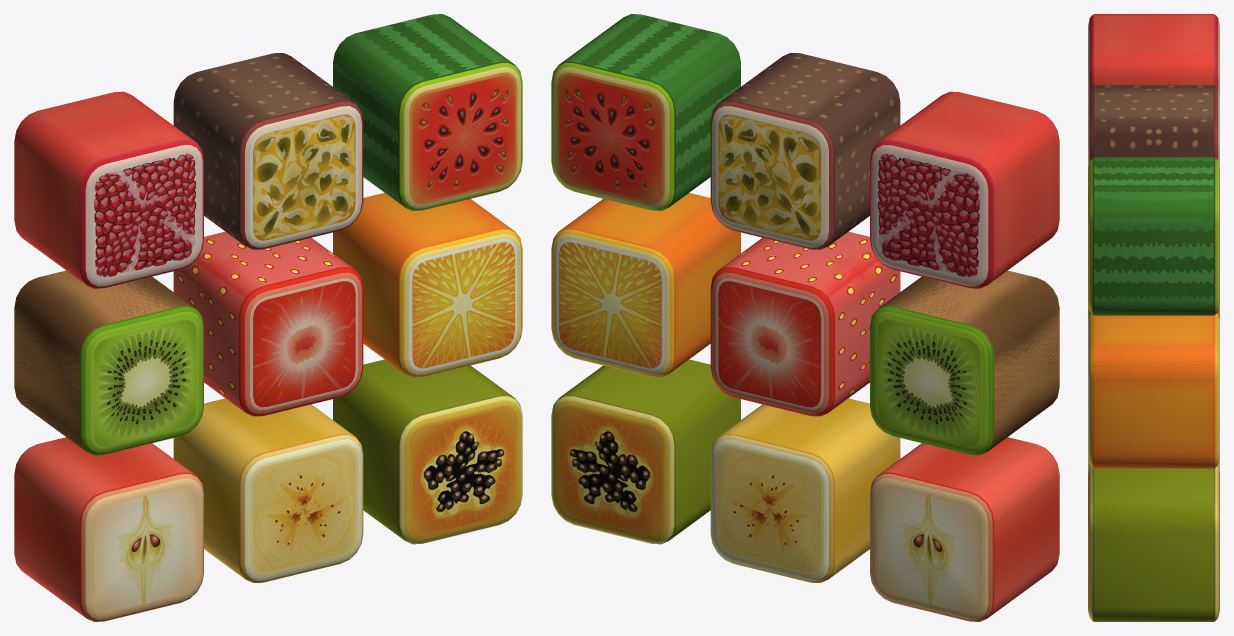
The model's file is Cube_Fruit.fbx.
3 renders of one model, left to right at view 1: azimuth 30°, elevation 25°; view 2: azimuth 150°, elevation 25°; view 3: azimuth 270°, elevation 25°, orthographic. The views are drawn at different scales.
Parts seen in each view (by area): view 1: Cube_Pomegranate, Cube_Kiwi, Cube_Apple, Cube_PassionFruit, Cube_WaterMelon, Cube_Strawberry, Cube_Banana, Cube_Orange, Cube_Papaya; view 2: Cube_Pomegranate, Cube_Kiwi, Cube_Apple, Cube_PassionFruit, Cube_WaterMelon, Cube_Strawberry, Cube_Banana, Cube_Orange, Cube_Papaya; view 3: Cube_WaterMelon, Cube_Papaya, Cube_Orange, Cube_PassionFruit, Cube_Pomegranate.
Part boxes in pixels (x1,y1,x2,y2): Cube_Pomegranate: (14,91,203,288); Cube_Kiwi: (14,270,203,455); Cube_Apple: (14,437,203,621); Cube_PassionFruit: (173,53,363,249); Cube_WaterMelon: (333,14,522,210); Cube_Strawberry: (173,231,363,416); Cube_Banana: (173,398,363,582); Cube_Orange: (333,193,522,377); Cube_Papaya: (333,359,522,544); Cube_Pomegranate: (870,91,1059,288); Cube_Kiwi: (870,270,1059,455); Cube_Apple: (870,437,1059,621); Cube_PassionFruit: (710,53,900,249); Cube_WaterMelon: (551,14,740,210); Cube_Strawberry: (710,231,900,416); Cube_Banana: (710,398,900,582); Cube_Orange: (551,193,740,377); Cube_Papaya: (551,359,740,544); Cube_WaterMelon: (1088,157,1219,315); Cube_Papaya: (1088,466,1219,621); Cube_Orange: (1088,313,1219,468); Cube_PassionFruit: (1088,85,1219,167); Cube_Pomegranate: (1088,14,1219,96).
Size of the model in its own units: 6.95 by 6.95 by 1.95.
